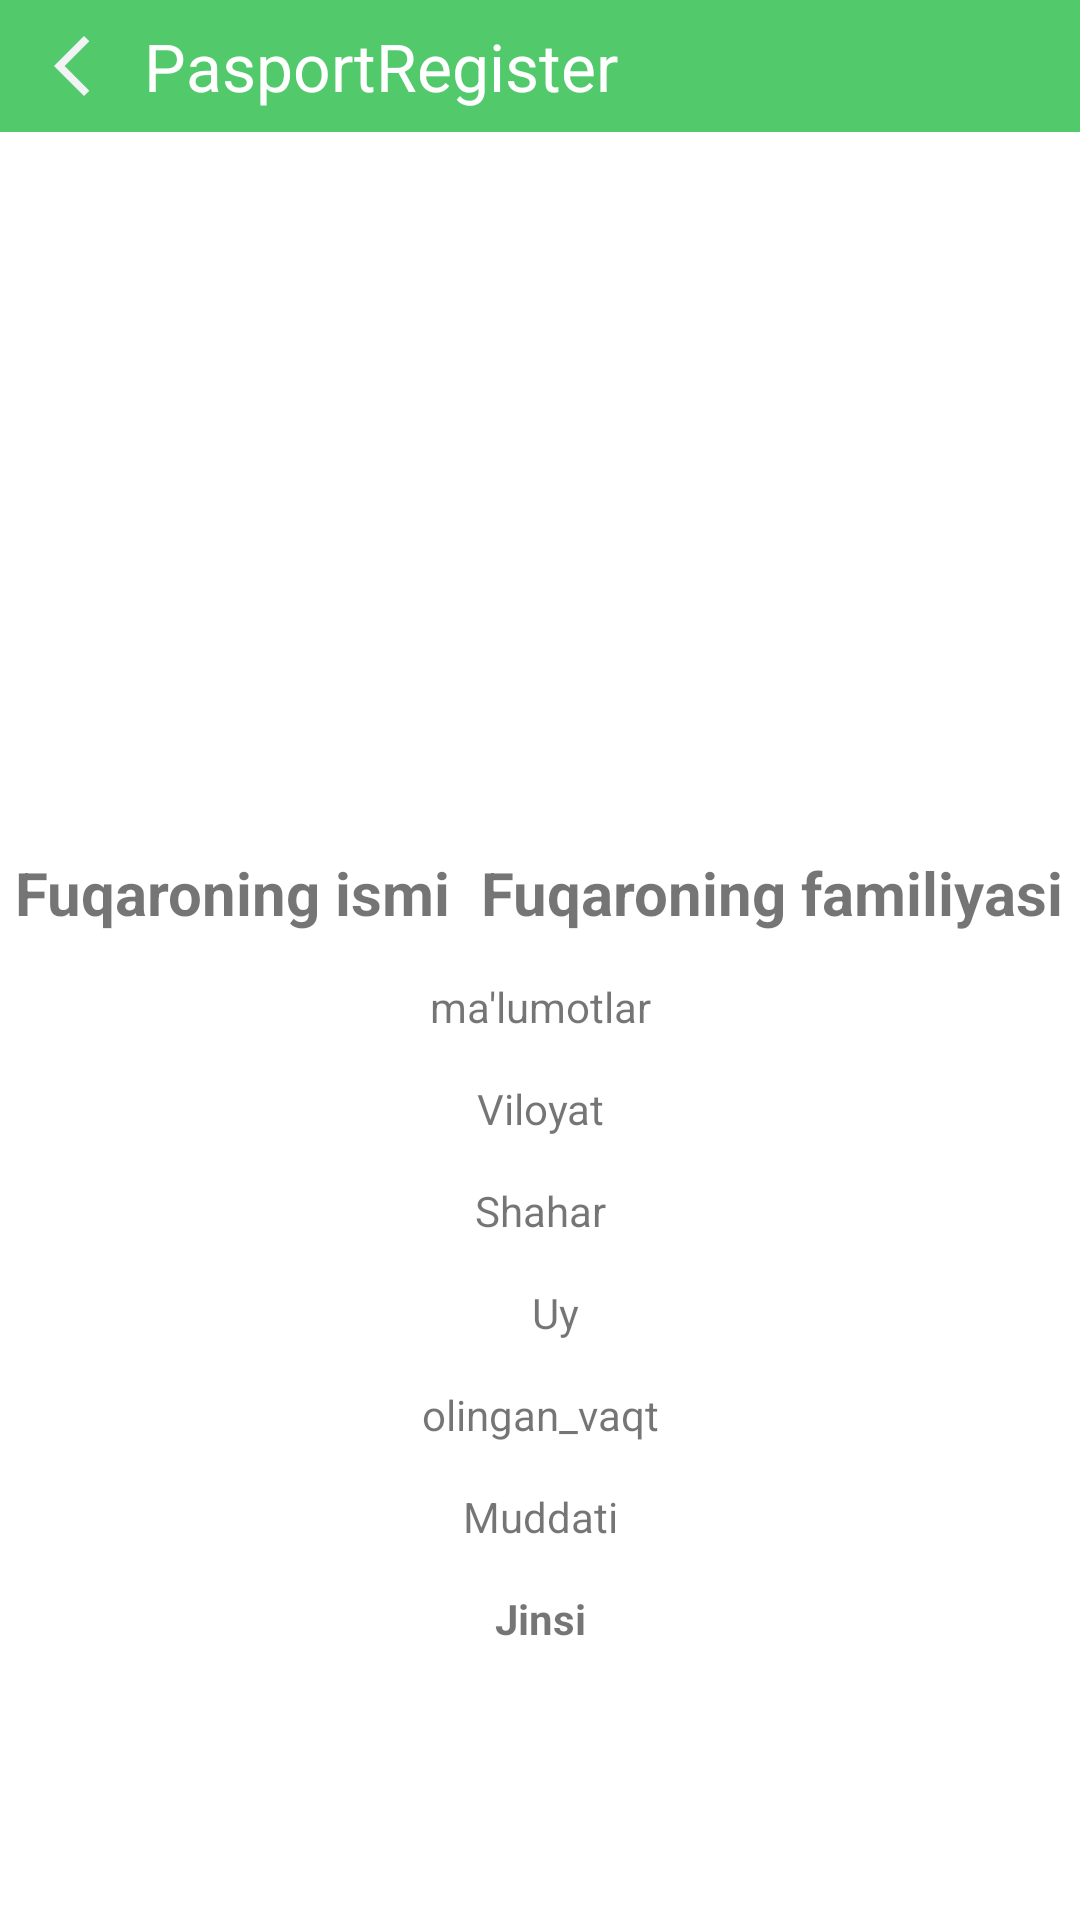

Point at icon controls on the screen. Image size 1080px x 1920px, points as [x,y].
arrow back: [71,66]
